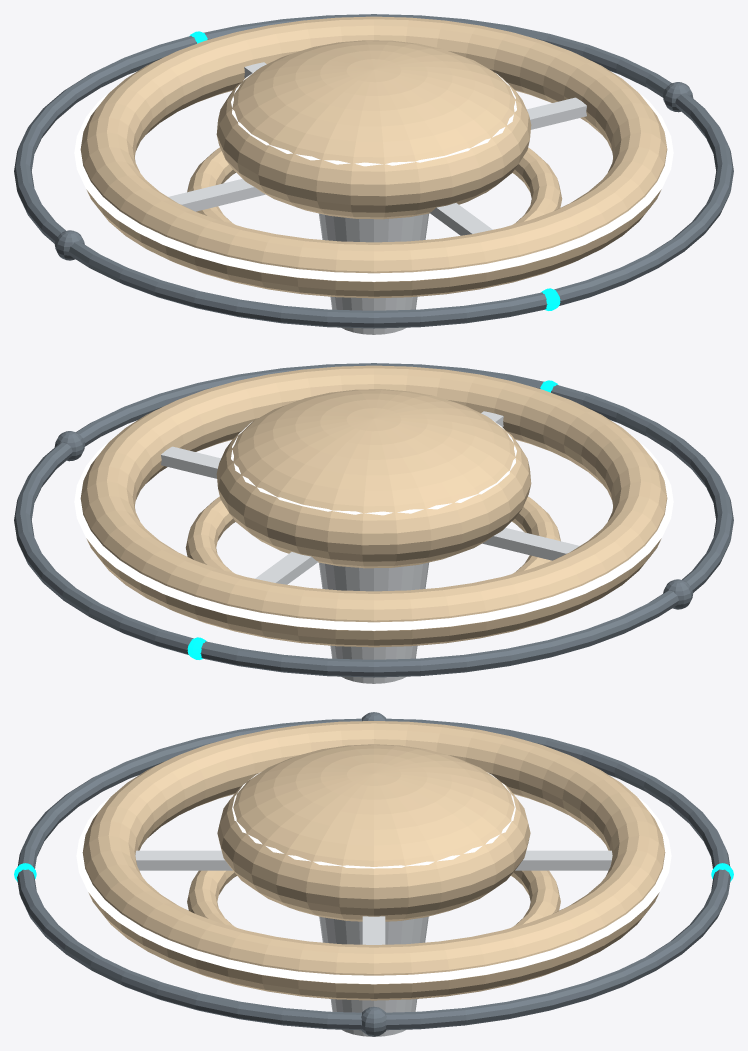
Rendered from venus-cloud-haven.glb.
3 views of the same model, one above another, from view 1: azimuth 30°, elevation 25°; view 2: azimuth 150°, elevation 25°; view 3: azimuth 270°, elevation 25° (orthographic).
Parts seen in each view (by area): view 1: station_body, rotor_ring; view 2: station_body, rotor_ring; view 3: station_body, rotor_ring.
Boxes of the visible parts, x1,y1,x2,y2 form: station_body: (74,16,673,334); rotor_ring: (14,14,733,328); station_body: (74,365,673,683); rotor_ring: (14,363,733,677); station_body: (76,721,671,1036); rotor_ring: (14,712,733,1036).
Bounding box in the file's own units: 2.88 × 1.08 × 2.85.
